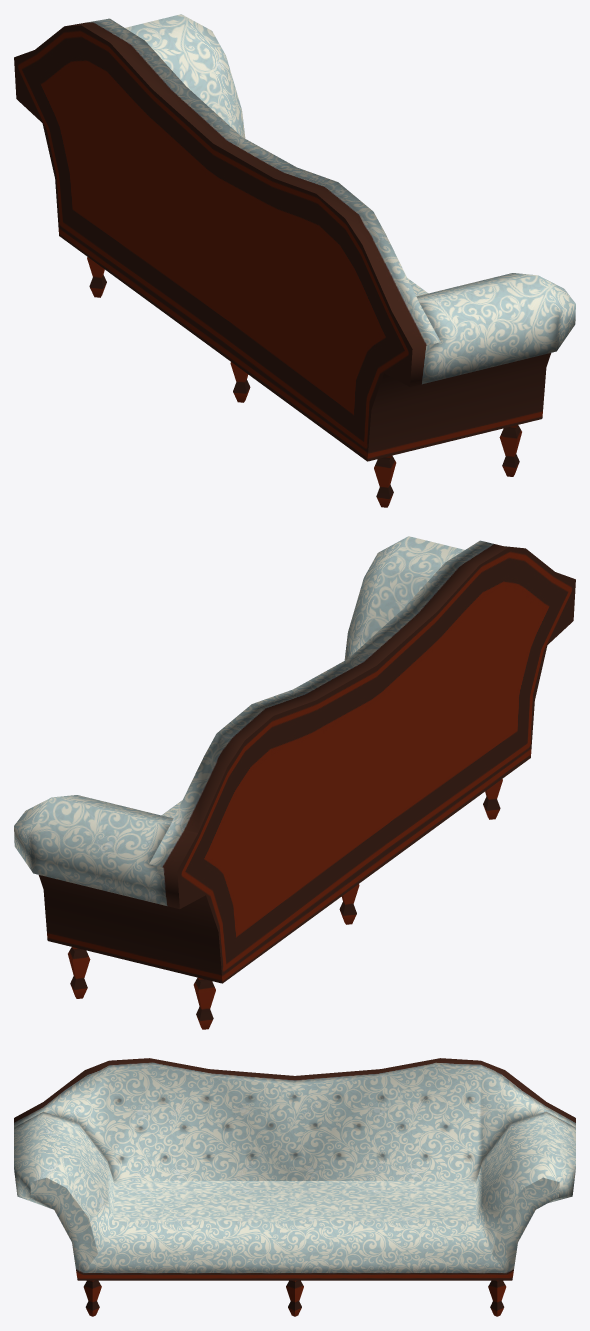
Rendered from VicSofa.fbx.
3 renders of one model, top to bottom at view 1: azimuth 30°, elevation 25°; view 2: azimuth 150°, elevation 25°; view 3: azimuth 270°, elevation 25°, orthographic. The views are drawn at different scales.
Visible parts, largest first — view 1: VicSofa; view 2: VicSofa; view 3: VicSofa.
Boxes of the visible parts, x1,y1,x2,y2 form: VicSofa: (14,14,575,507); VicSofa: (14,536,575,1029); VicSofa: (14,1058,575,1316).
Size of the model in its own units: 1.55 by 2.46 by 6.13.
1 material, 1 textured.
